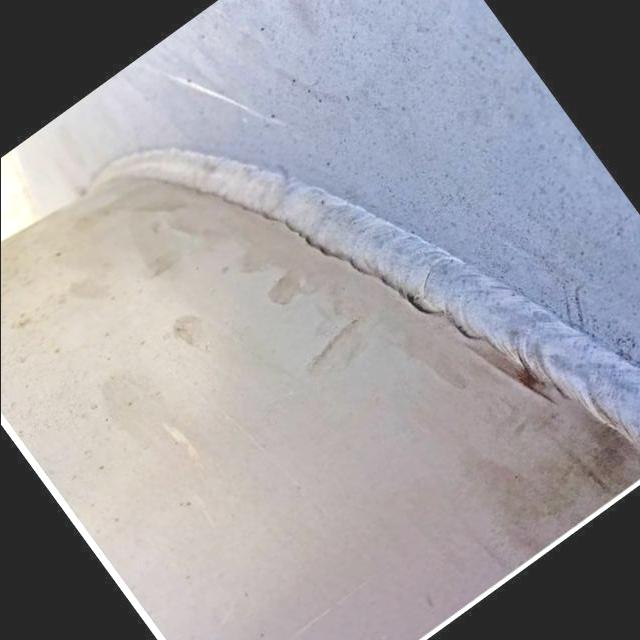defect: (142, 176, 444, 320)
